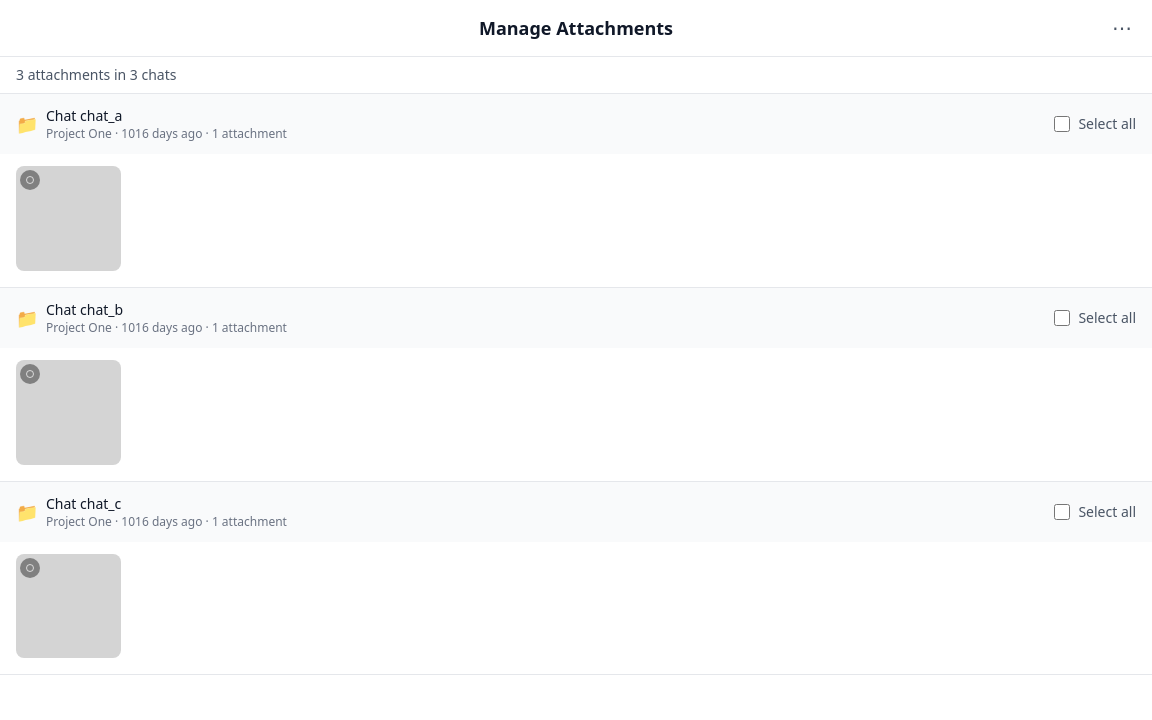
Test: AttachmentSection › inside AttachmentManagerView › does not recreate observers when the view re-renders
Step 1. Click the checkbox labelled "Select all" in the row of "Chat chat_a" → point(1062, 124), box [1054,116,1070,132]
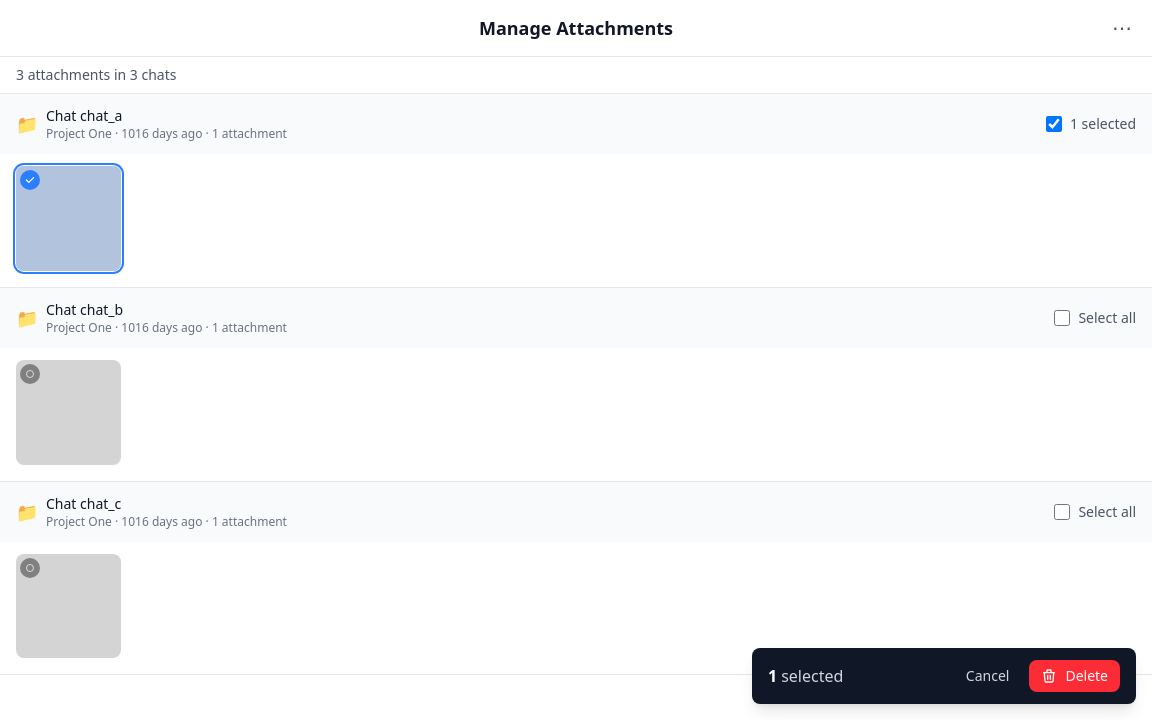
Now the text "1 selected" is shown, box [1070,114,1136,134]
